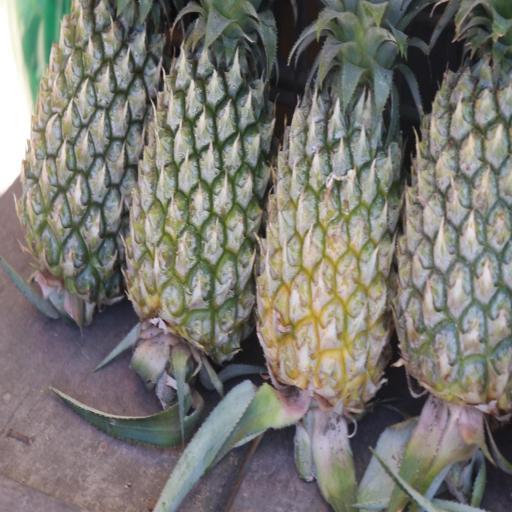------------------------------: (250, 0, 404, 432)
